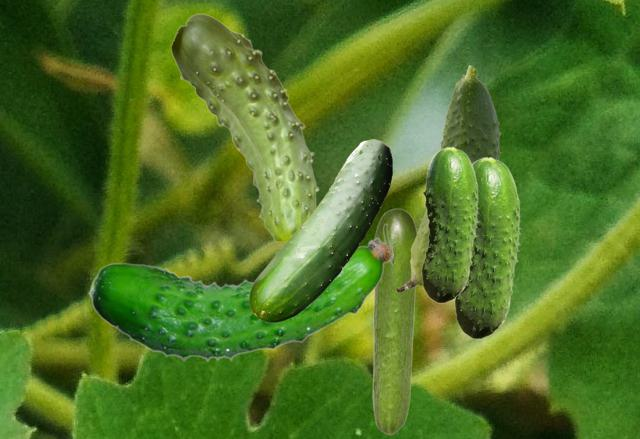cucumber: (87, 223, 392, 361), (170, 13, 319, 239), (249, 139, 391, 321), (396, 65, 500, 291), (454, 156, 520, 338), (372, 208, 416, 434), (421, 146, 478, 302)
